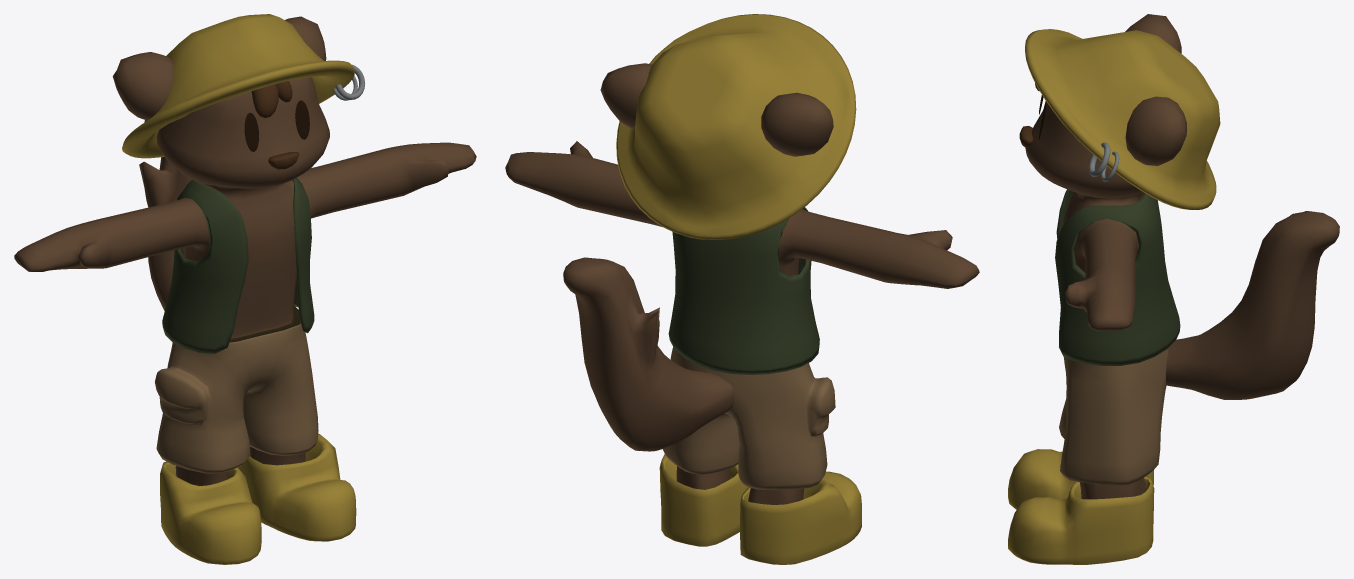
File: Keli_Rough_Colors.fbx
3 views of the same model, side by side, from view 1: azimuth 30°, elevation 25°; view 2: azimuth 150°, elevation 25°; view 3: azimuth 270°, elevation 25° (orthographic). The views are drawn at different scales.
Visible parts, largest first — view 1: Body1, Eyes1; view 2: Body1; view 3: Body1.
Boxes of the visible parts, box(x1,y1,x2,y2) form: Body1: box(14, 14, 476, 564); Eyes1: box(244, 100, 309, 151); Body1: box(505, 14, 979, 564); Body1: box(1008, 14, 1339, 564).
Size of the model in its own units: 4.62 by 4.79 by 2.9.
